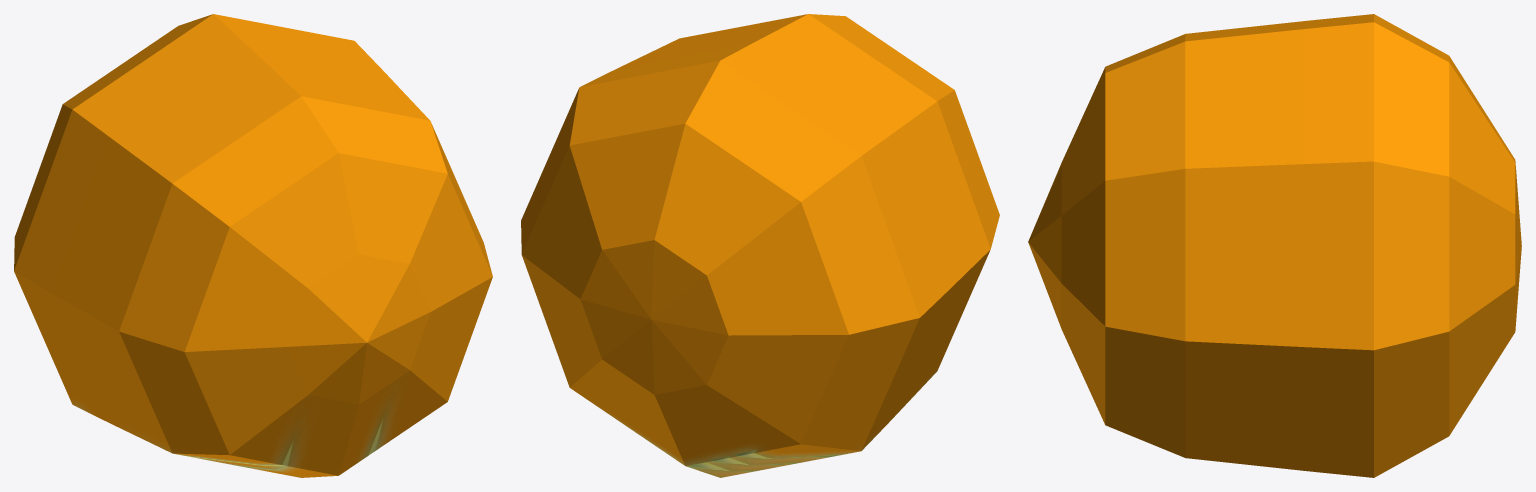
The model's file is pumpkin08_wtf.obj.
3 views of the same model, side by side, from view 1: azimuth 30°, elevation 25°; view 2: azimuth 150°, elevation 25°; view 3: azimuth 270°, elevation 25° (orthographic). The views are drawn at different scales.
Visible parts, largest first — view 1: group2; view 2: group2; view 3: group2.
Boxes of the visible parts, left/top/right/bottom form: group2: left=14, top=14, right=492, bottom=477; group2: left=521, top=14, right=999, bottom=477; group2: left=1028, top=14, right=1521, bottom=477.
Size of the model in its own units: 660 by 660 by 660.
